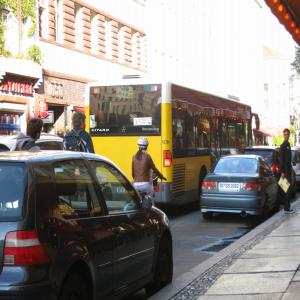Vehicle-registration-plate: (219, 182, 241, 191), (116, 188, 129, 194)
